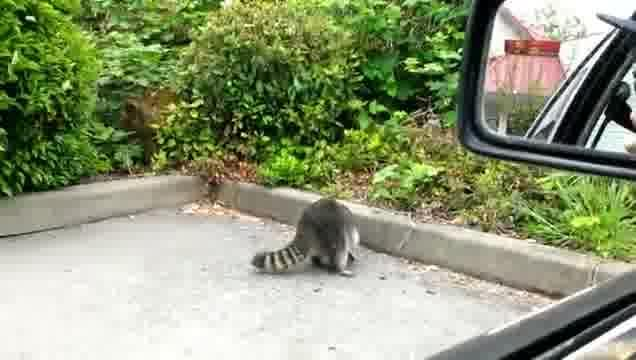raccoon: (250, 196, 363, 281)
